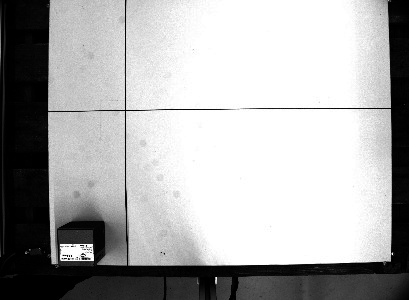b7: (54, 219, 106, 269)
